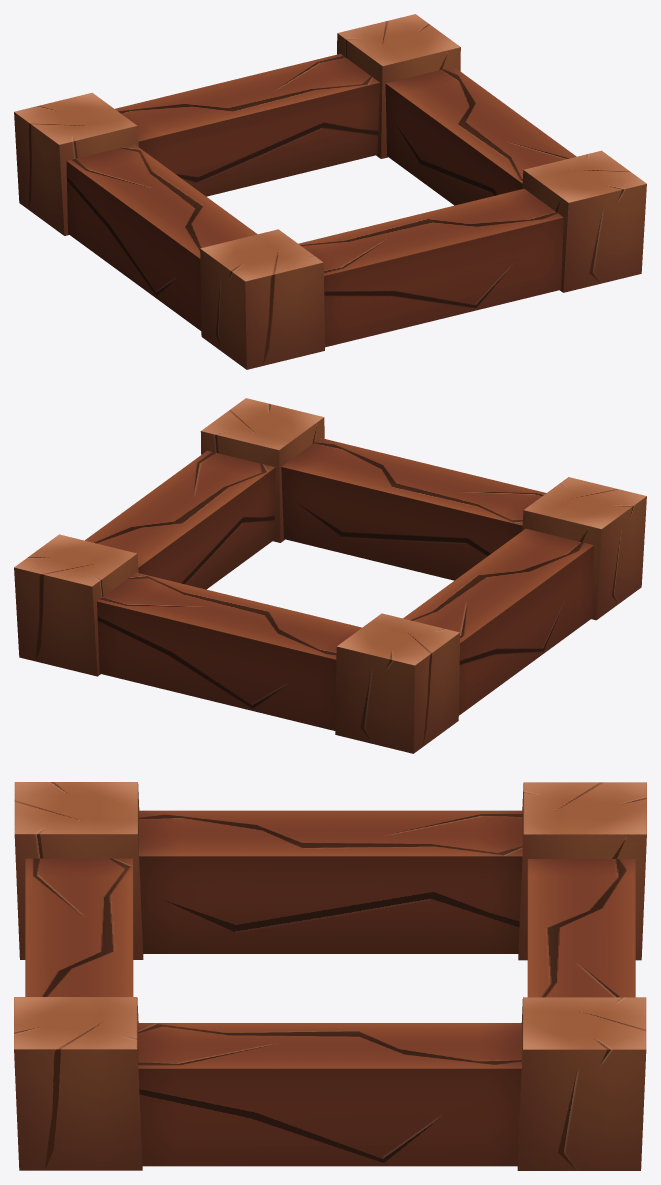
Rendered from Flowerbed_3.fbx.
The picture shows the model from 3 angles, top to bottom: view 1: azimuth 30°, elevation 25°; view 2: azimuth 150°, elevation 25°; view 3: azimuth 270°, elevation 25°; orthographic projection. The views are drawn at different scales.
Parts seen in each view (by area): view 1: FlowerBed_3; view 2: FlowerBed_3; view 3: FlowerBed_3.
Part boxes in pixels (x1,y1,x2,y2): FlowerBed_3: (14,14,646,369); FlowerBed_3: (14,398,646,753); FlowerBed_3: (14,782,646,1170).
Bounding box in the file's own units: 3.11 × 0.6714 × 3.11.
